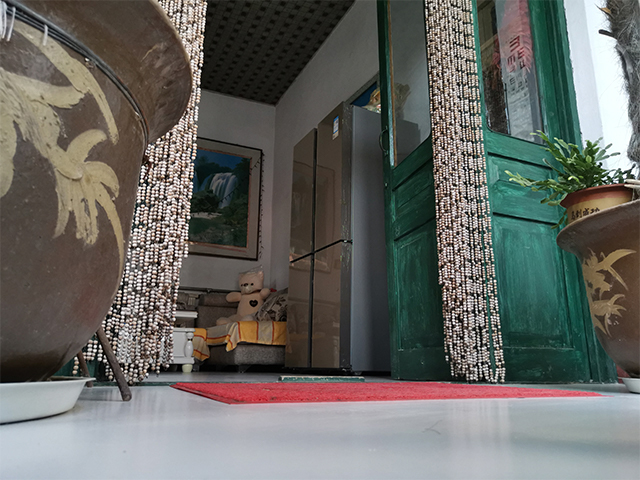carpet: (169, 378, 616, 406)
sofa: (194, 286, 291, 374)
